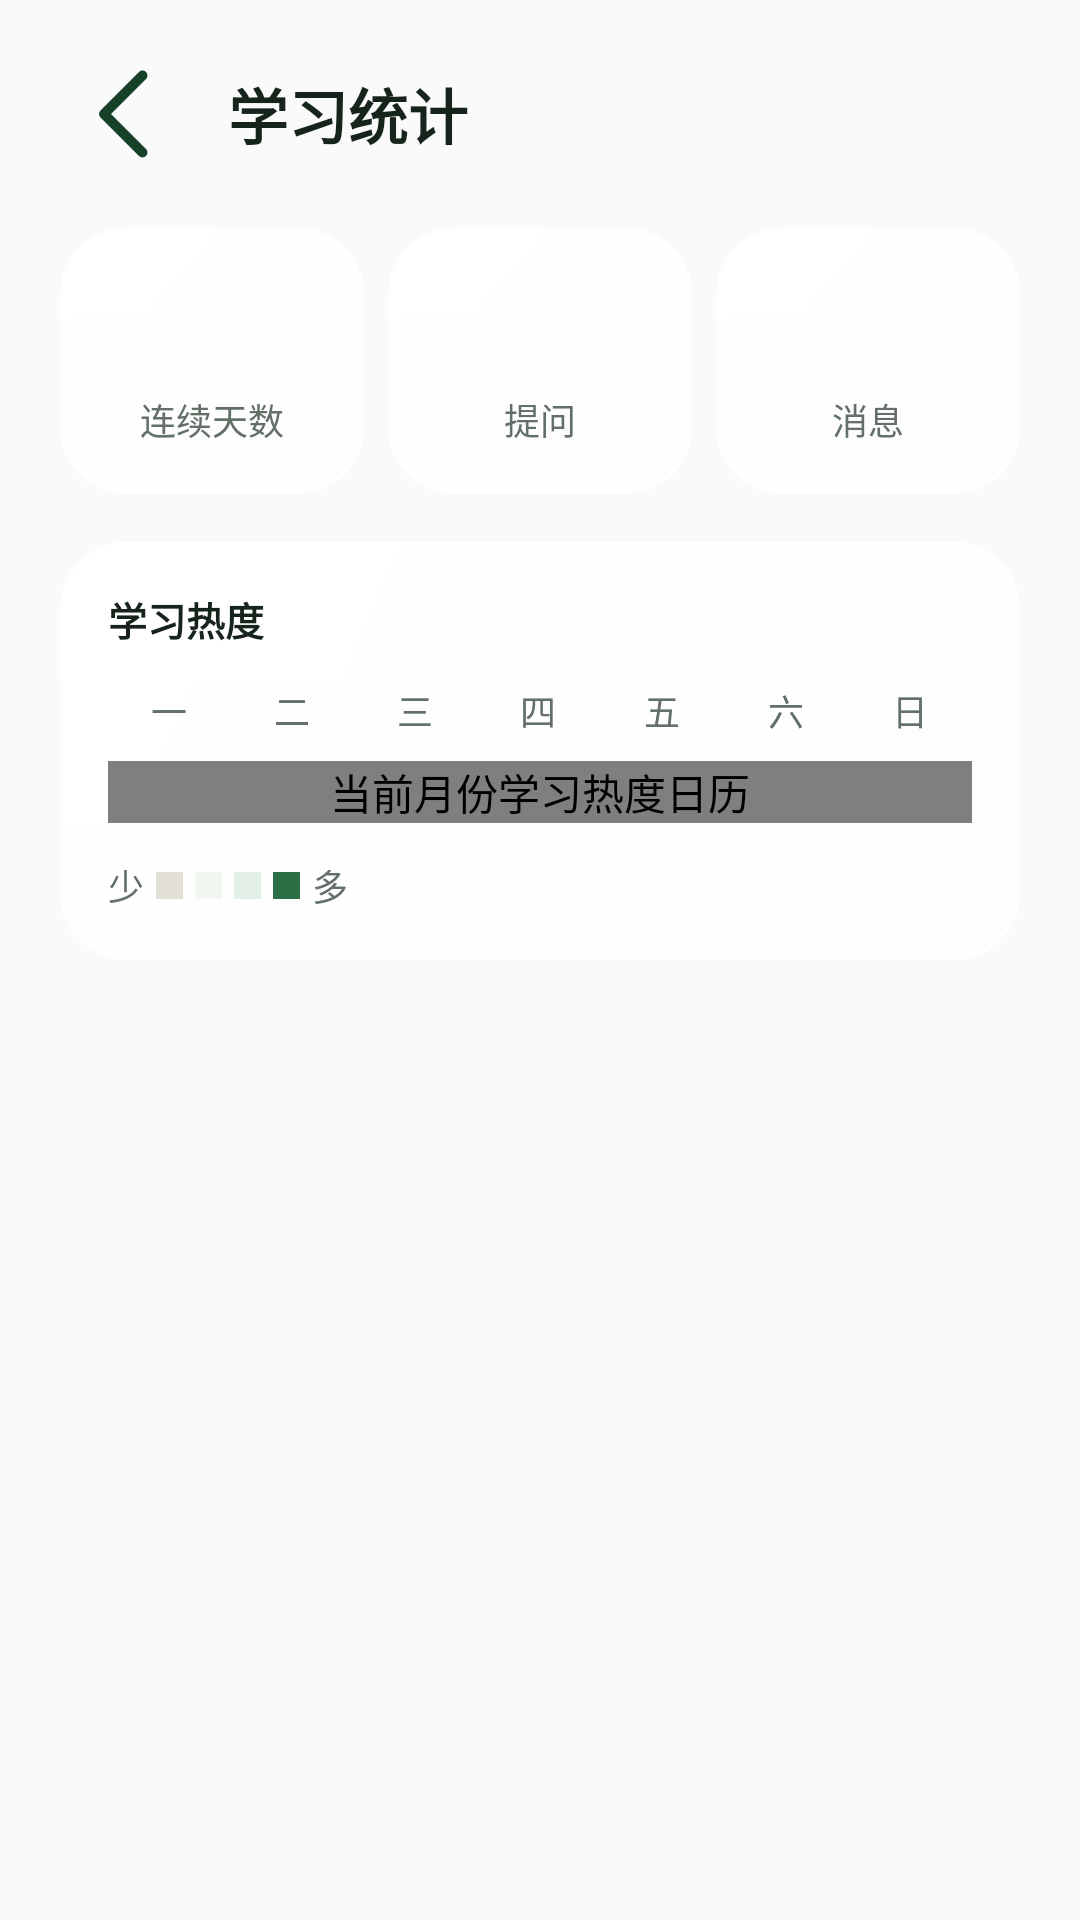

Where to tap for icons on this 1080×1920 app screen, as (x=x, y=y):
返回: (x=123, y=114)
